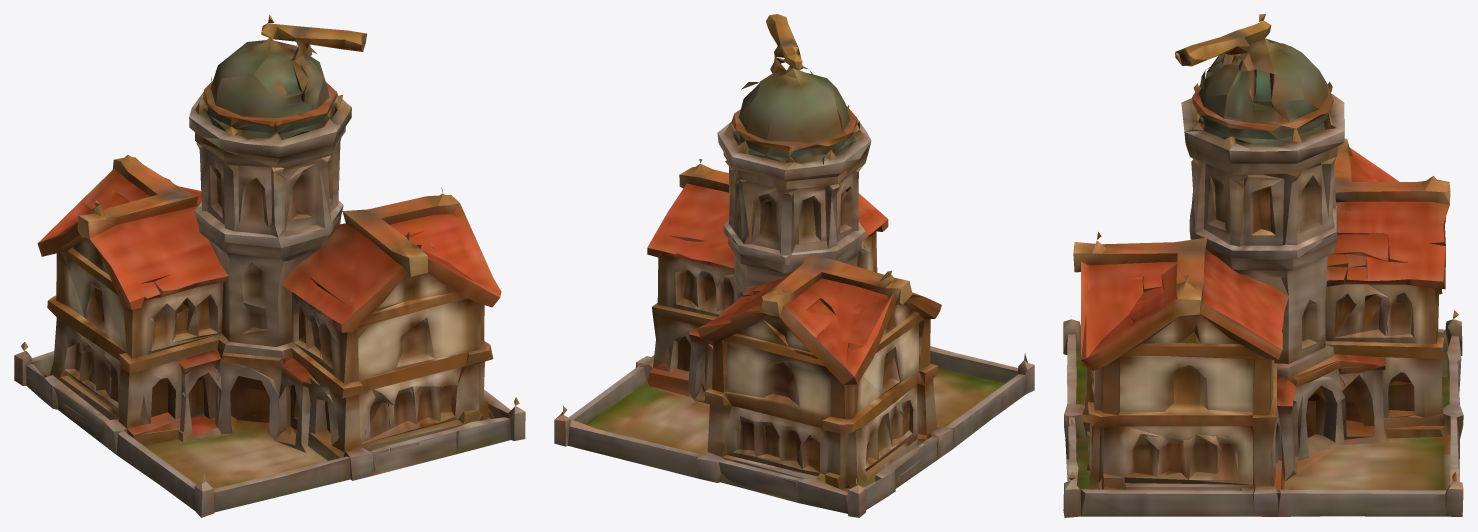
Rendered from university2.lod2.glb.
3 views of the same model, side by side, from view 1: azimuth 30°, elevation 25°; view 2: azimuth 150°, elevation 25°; view 3: azimuth 270°, elevation 25° (orthographic). The views are drawn at different scales.
Visible parts, largest first — view 1: university2.lod2_uv; view 2: university2.lod2_uv; view 3: university2.lod2_uv.
Part boxes in pixels (x1,y1,x2,y2): university2.lod2_uv: [14, 14, 525, 517]; university2.lod2_uv: [554, 14, 1034, 517]; university2.lod2_uv: [1063, 14, 1463, 517].
Size of the model in its own units: 1.62 by 1.88 by 1.62.
Materials: 1 (1 with a texture image).
